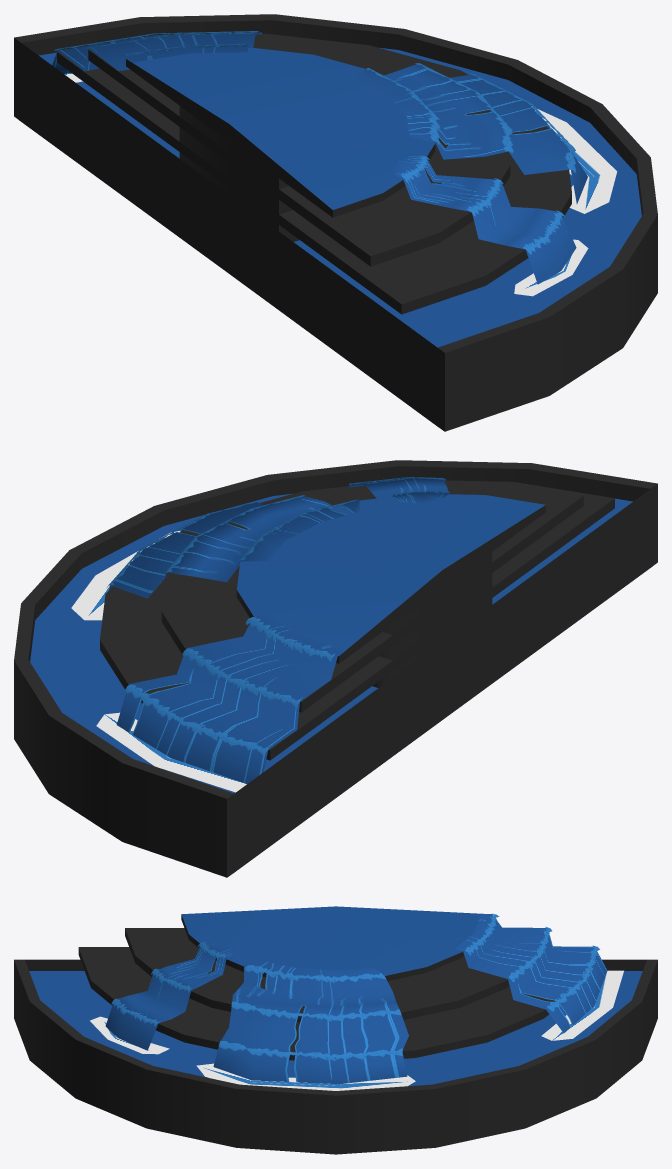
Rendered from WaterFountain_01.fbx.
3 views of the same model, one above another, from view 1: azimuth 30°, elevation 25°; view 2: azimuth 150°, elevation 25°; view 3: azimuth 270°, elevation 25° (orthographic). The views are drawn at different scales.
Visible parts, largest first — view 1: Fountain, FallingWater, WaterRipples, WaterHighlights, WaterHighlightsInverse; view 2: Fountain, FallingWater, WaterRipples, WaterHighlights, WaterHighlightsInverse; view 3: Fountain, FallingWater, WaterRipples, WaterHighlights, WaterHighlightsInverse.
Boxes of the visible parts, bbox=[...] form: Fountain: bbox=[14, 14, 657, 431]; FallingWater: bbox=[52, 32, 587, 284]; WaterRipples: bbox=[64, 73, 617, 296]; WaterHighlights: bbox=[55, 31, 575, 252]; WaterHighlightsInverse: bbox=[54, 31, 575, 254]; Fountain: bbox=[14, 460, 657, 877]; FallingWater: bbox=[109, 477, 449, 783]; WaterRipples: bbox=[71, 530, 246, 792]; WaterHighlights: bbox=[108, 477, 449, 753]; WaterHighlightsInverse: bbox=[107, 477, 449, 755]; Fountain: bbox=[14, 906, 657, 1154]; FallingWater: bbox=[105, 914, 607, 1084]; WaterRipples: bbox=[90, 970, 623, 1090]; WaterHighlights: bbox=[112, 913, 598, 1060]; WaterHighlightsInverse: bbox=[111, 915, 599, 1060].
Bounding box in the file's own units: 781 × 300 × 1561.
